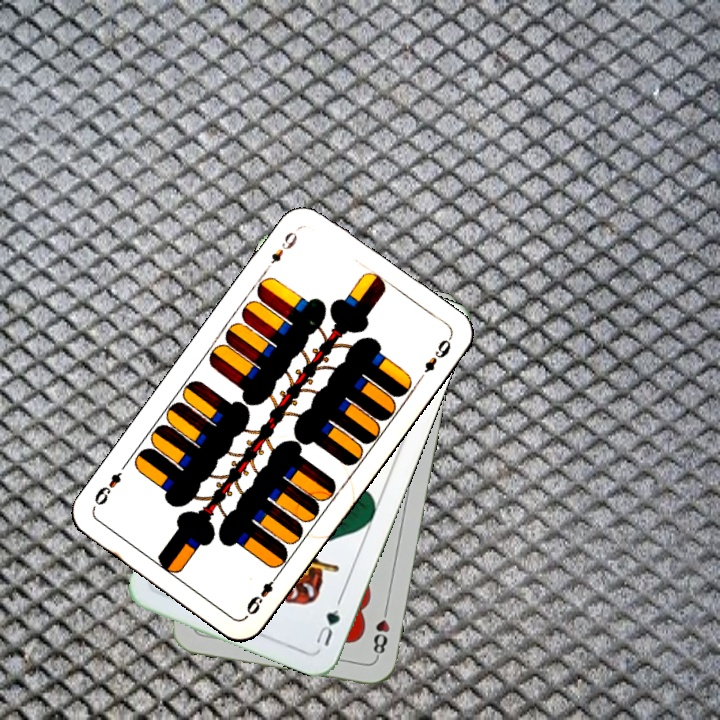E9: (242, 569, 282, 618), (267, 227, 300, 267)
GU: (310, 595, 344, 649)
H8: (369, 602, 392, 661)
